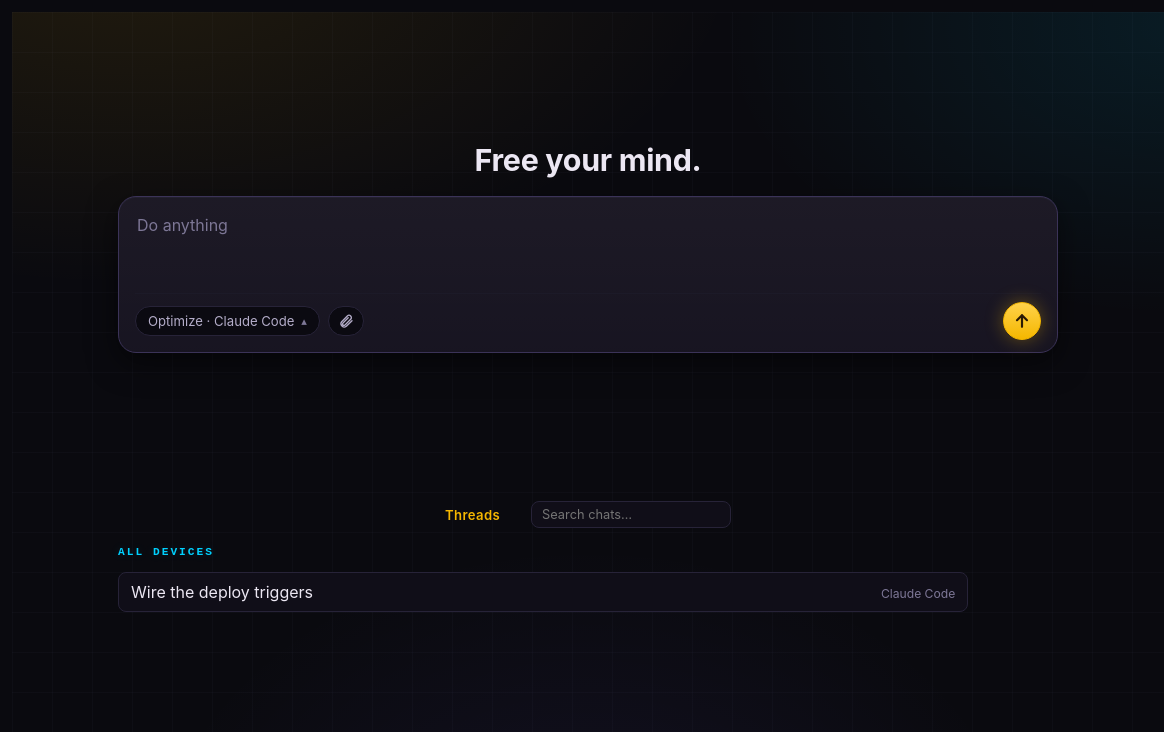
it: RunScreen attachments › blocks an empty start (no task, no attachment) with an inline error
Click the button named "Start session".
click(1022, 321)  # box [1003,302,1041,340]
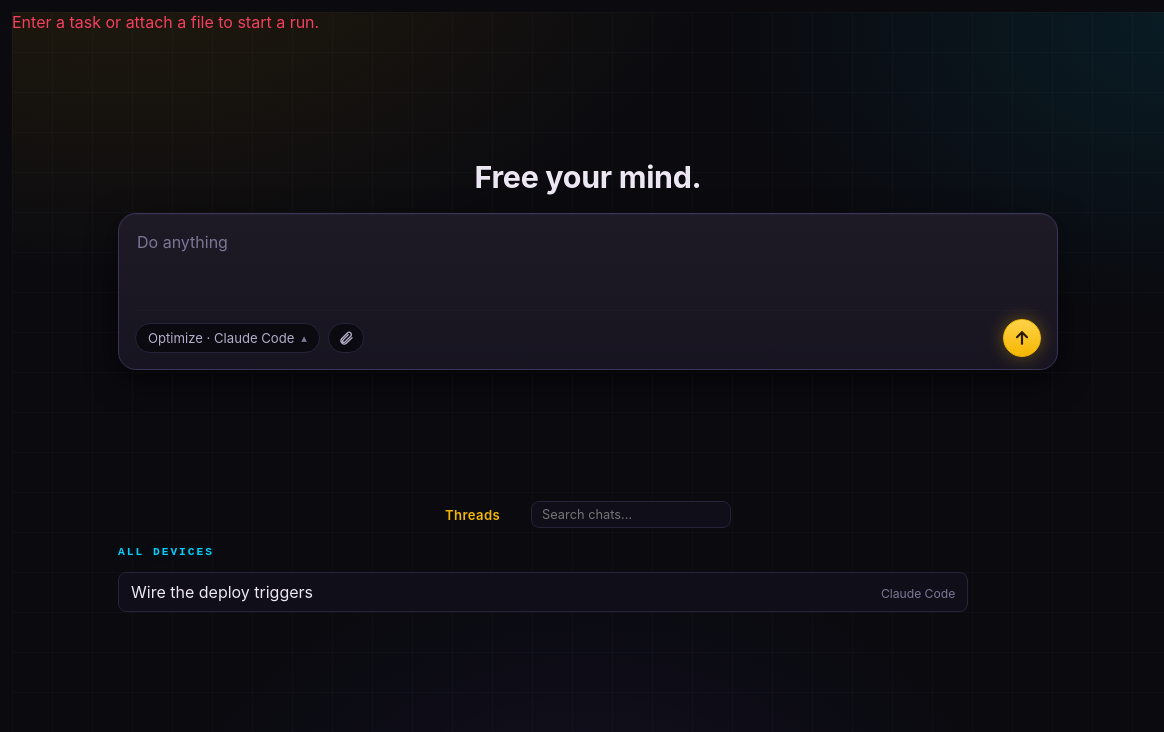
Expected: the message shows "Enter a task or attach a file", [12,12,319,32]
